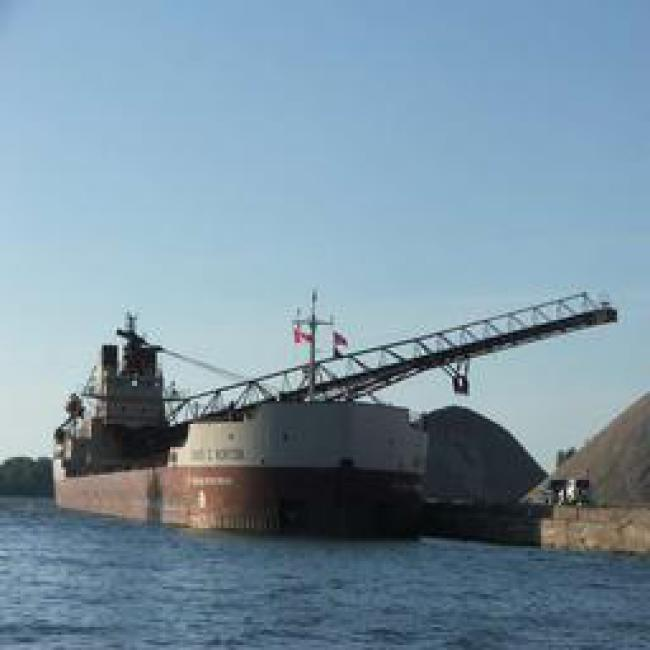Ship: (53, 344, 464, 552)
